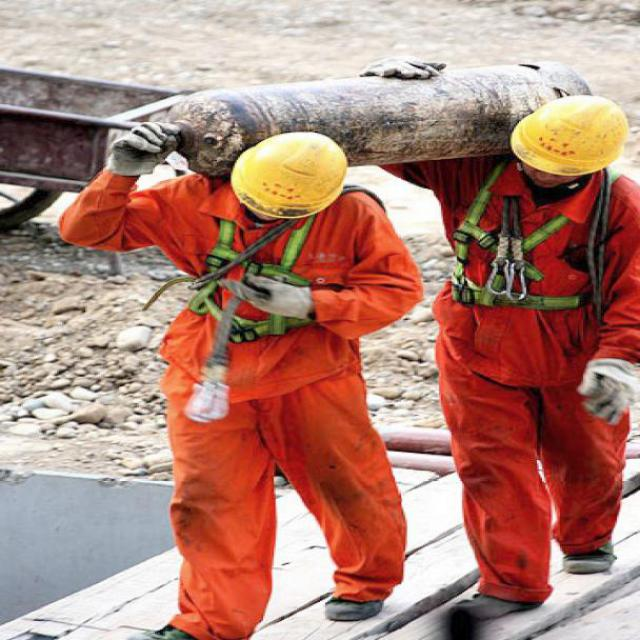gloves: (207, 262, 326, 326), (562, 353, 638, 436), (98, 112, 183, 179), (356, 56, 458, 80)
helmet: (489, 83, 638, 205), (208, 132, 357, 234)
vest: (156, 190, 416, 594), (432, 199, 639, 566)
